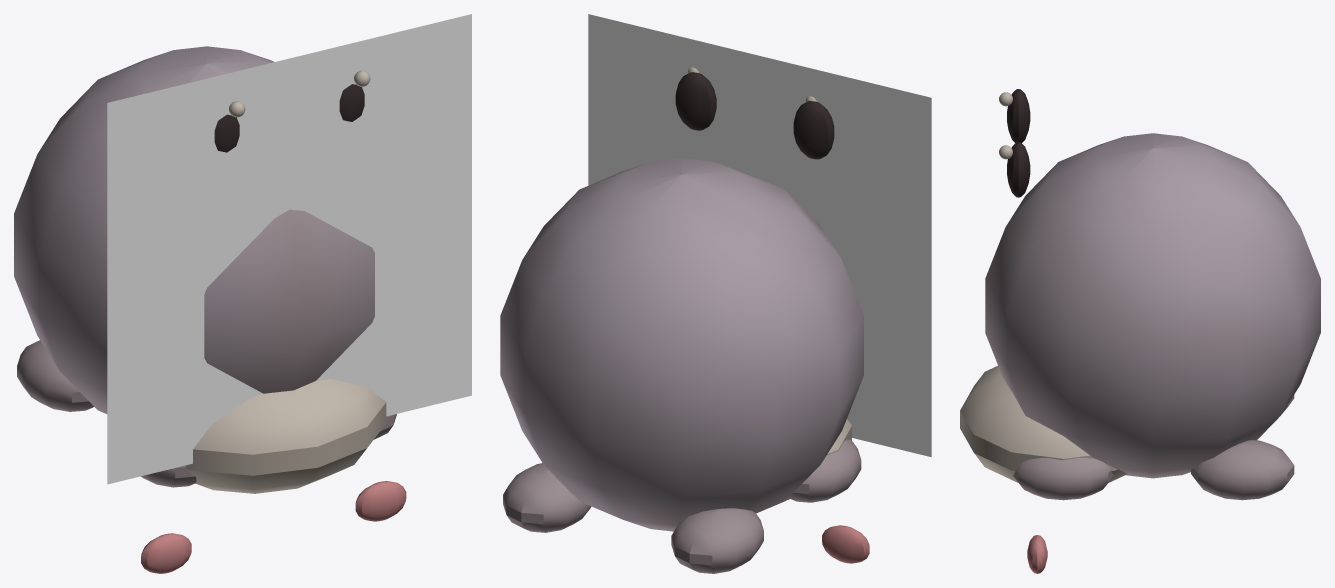
The picture shows the model from 3 angles, left to right: view 1: azimuth 30°, elevation 25°; view 2: azimuth 150°, elevation 25°; view 3: azimuth 270°, elevation 25°; orthographic projection. The views are drawn at different scales.
Parts seen in each view (by area): view 1: pet_p912ac785; view 2: pet_p912ac785; view 3: pet_p912ac785.
Part boxes in pixels (box(x1,y1,x2,y2)): pet_p912ac785: box(14, 14, 471, 573); pet_p912ac785: box(500, 14, 931, 573); pet_p912ac785: box(960, 89, 1320, 573).
Size of the model in its own units: 0.408 by 0.5342 by 0.4023.
